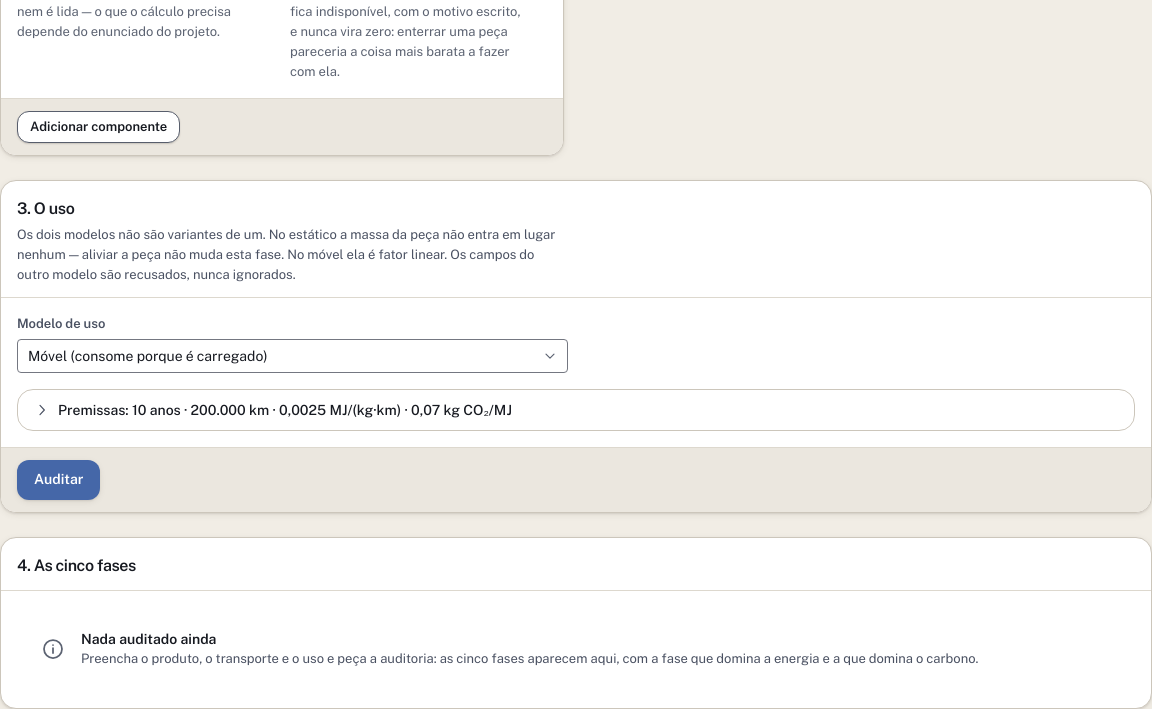
Scenario: Auditoria ambiental › mostra a massa comprada ao lado da massa da peça
This screenshot has width=1152, height=709.
(page scrolled)
Click the button "Auditar".
click(59, 480)  # box 17,460 -> 100,500
(page scrolled)
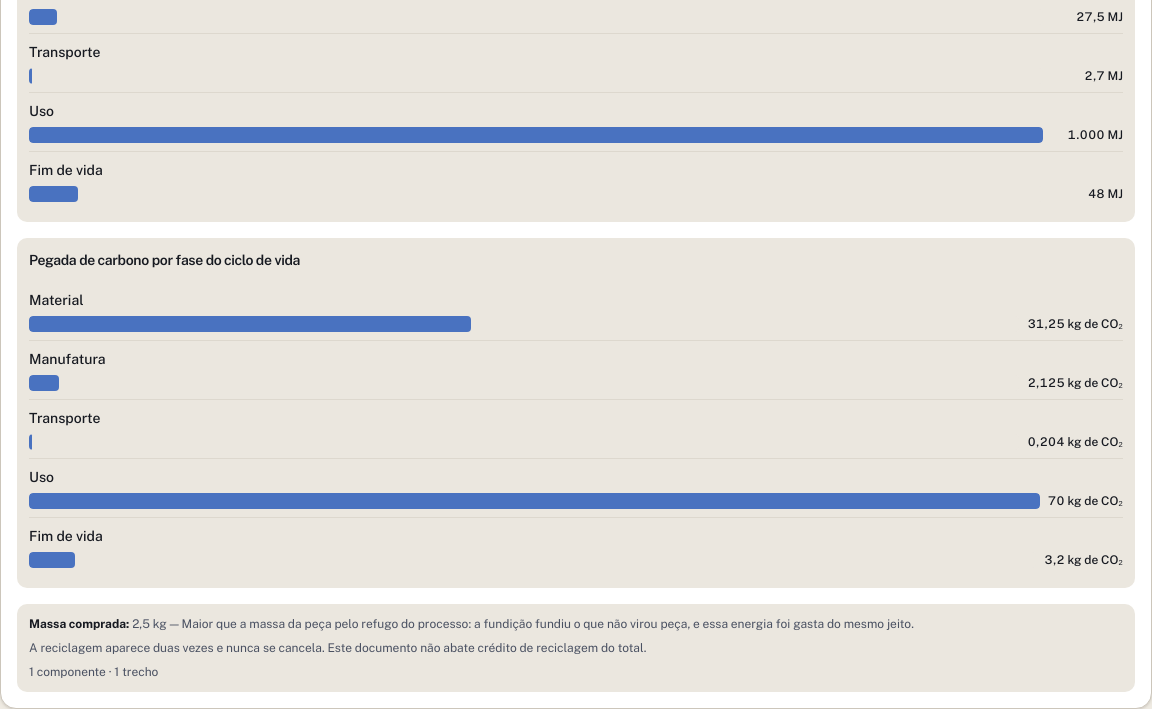
Expected: the text "2,5 kg" is shown, 29,616 -> 914,630
